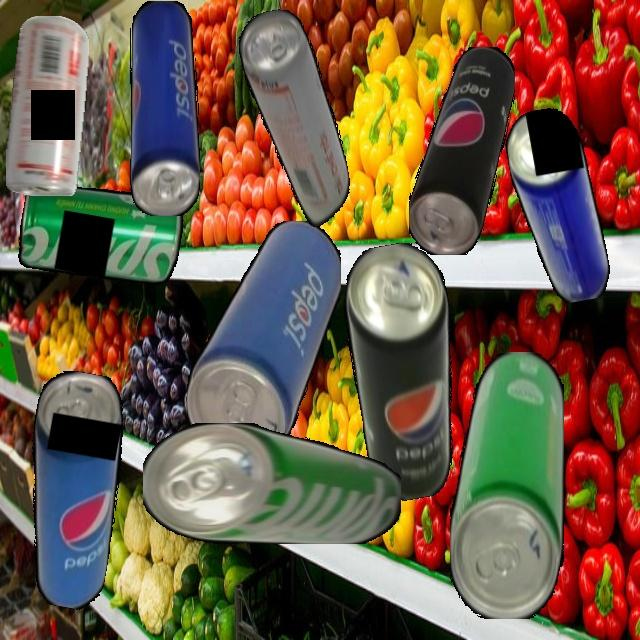debris: (333, 237, 481, 505), (186, 220, 341, 462), (4, 366, 139, 613), (143, 422, 401, 544), (449, 351, 564, 619), (234, 3, 356, 234), (501, 103, 614, 309), (408, 46, 515, 255), (14, 175, 187, 293), (129, 0, 200, 216), (5, 16, 89, 196)
